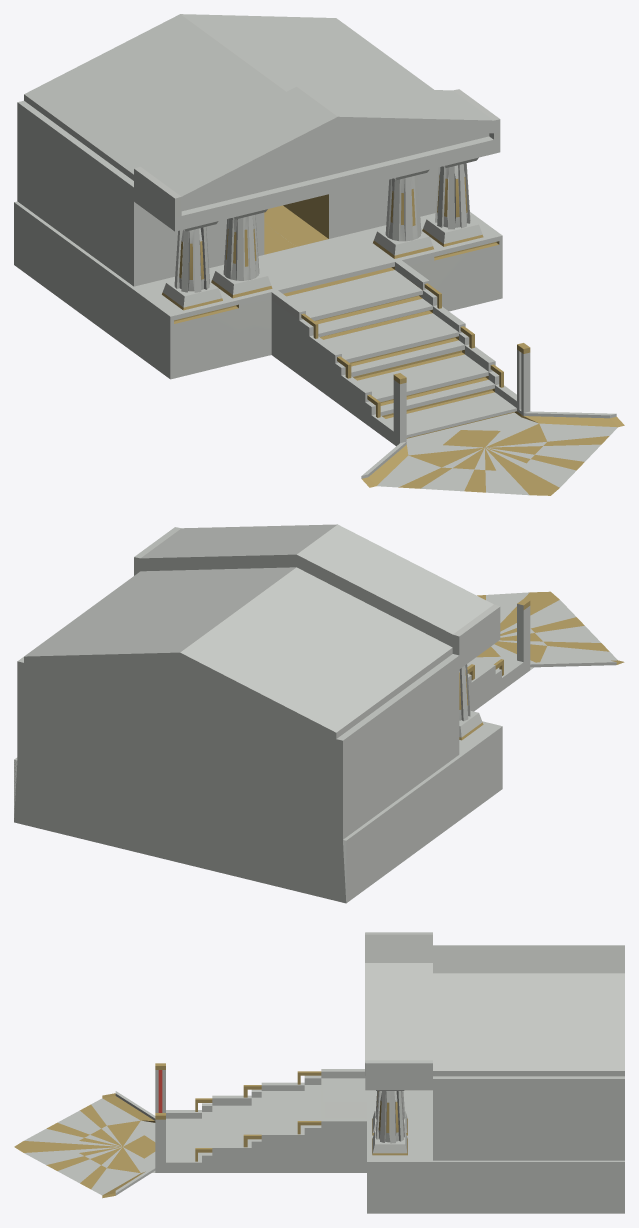
The model's file is CASONA COM TEXTURE.fbx.
3 renders of one model, top to bottom at view 1: azimuth 30°, elevation 25°; view 2: azimuth 150°, elevation 25°; view 3: azimuth 270°, elevation 25°, orthographic. The views are drawn at different scales.
Visible parts, largest first — view 1: Casona; view 2: Casona; view 3: Casona.
Boxes of the visible parts, x1,y1,x2,y2 form: Casona: (14, 14, 624, 495); Casona: (14, 524, 624, 903); Casona: (14, 932, 624, 1213).
Bounding box in the file's own units: 1147 × 736 × 2216.
1 material, 1 textured.
